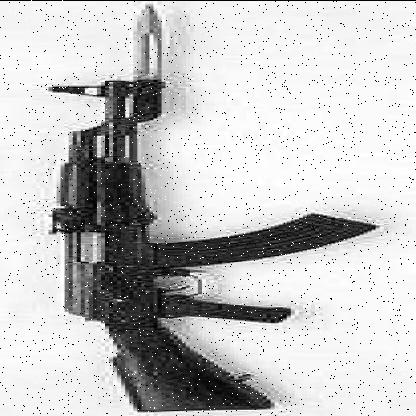rifle: (16, 80, 380, 409)
